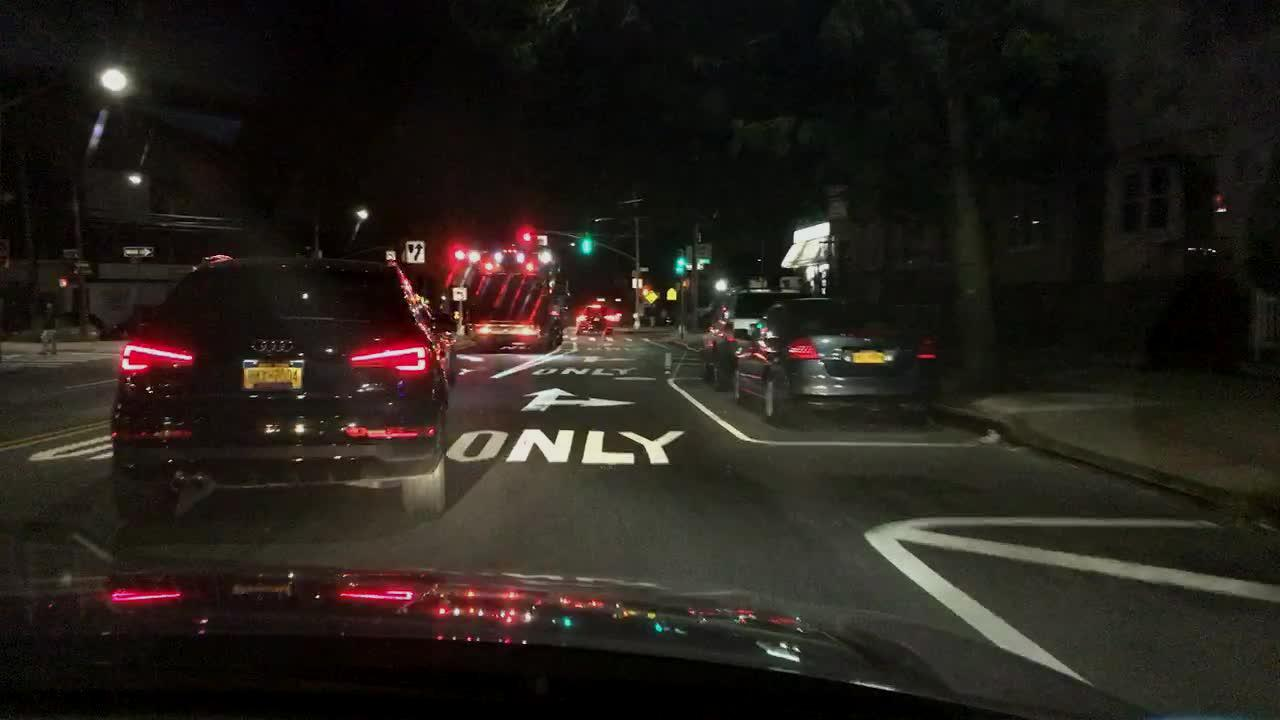Audi: (249, 332, 296, 358)
